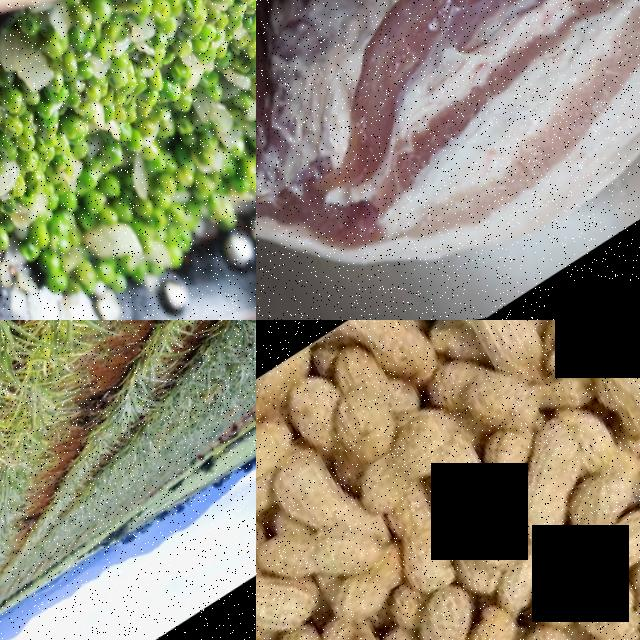peanuts: (416, 427, 538, 600), (498, 425, 608, 562), (273, 497, 392, 619), (371, 484, 472, 616), (533, 509, 640, 632), (431, 320, 559, 411), (576, 332, 640, 476), (347, 320, 446, 413), (256, 410, 296, 531), (572, 586, 640, 640), (256, 548, 291, 640)
peas: (0, 0, 213, 244), (174, 0, 256, 163)
pork belly: (256, 0, 640, 320)
